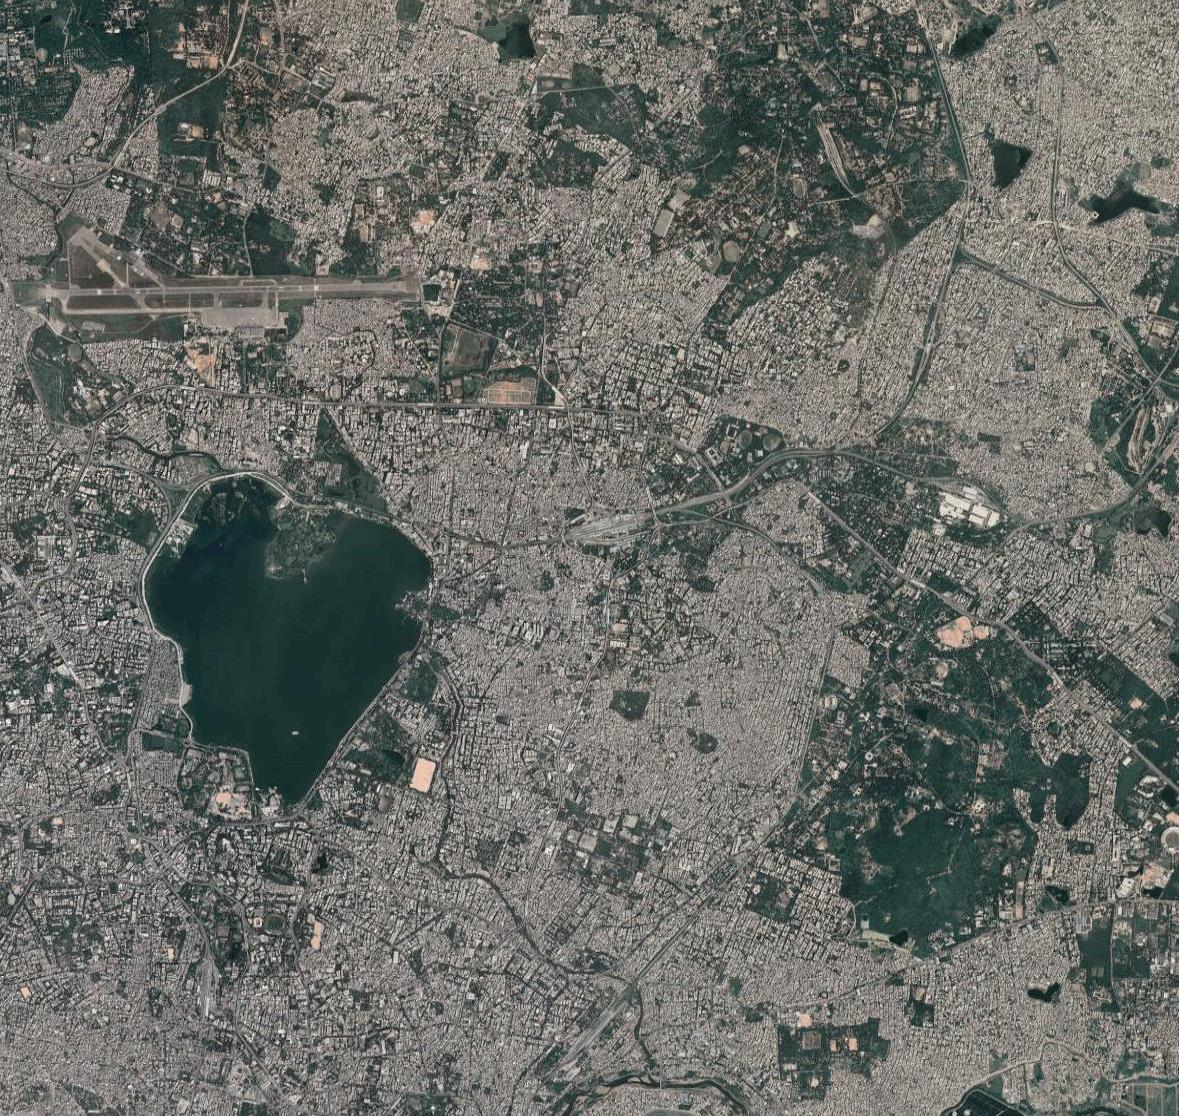airport: (35, 234, 426, 342)
bridge: (646, 507, 658, 519)
train_station: (576, 511, 642, 540)
